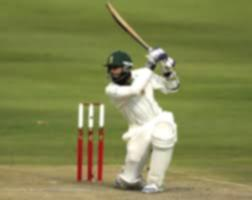batsman: (80, 3, 190, 197)
